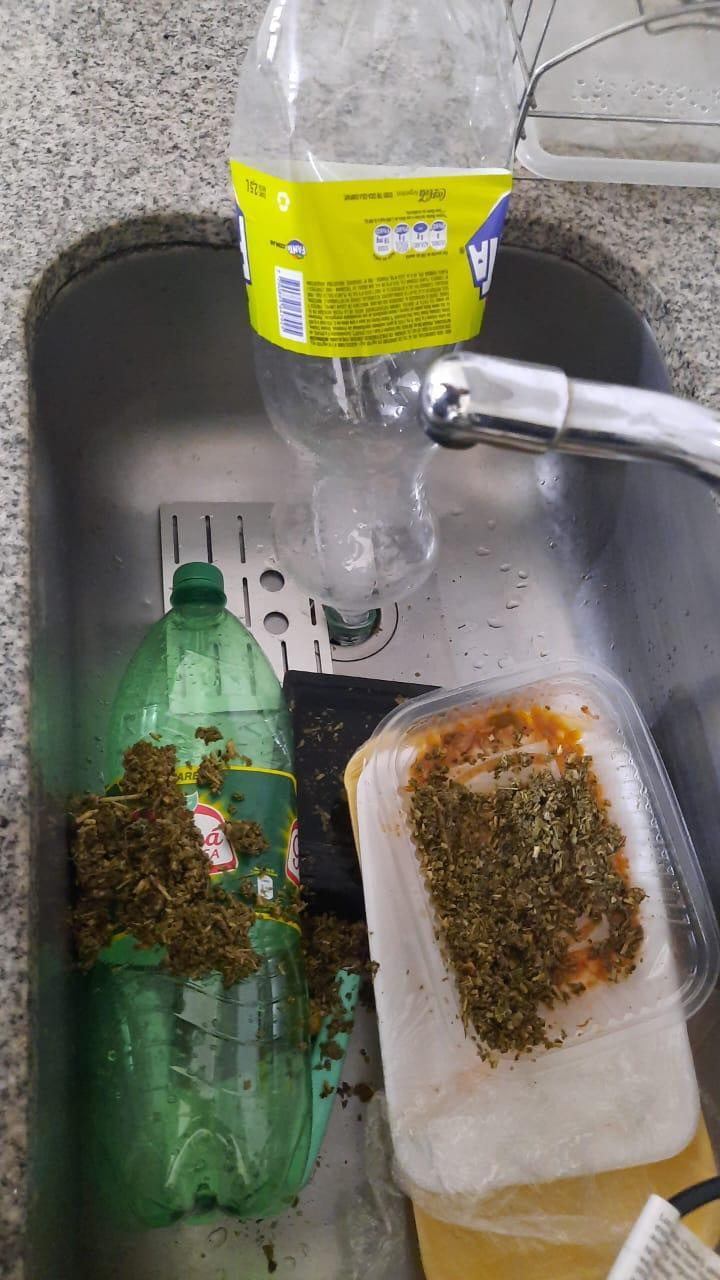bottle: (221, 0, 534, 618), (63, 556, 334, 1228)
